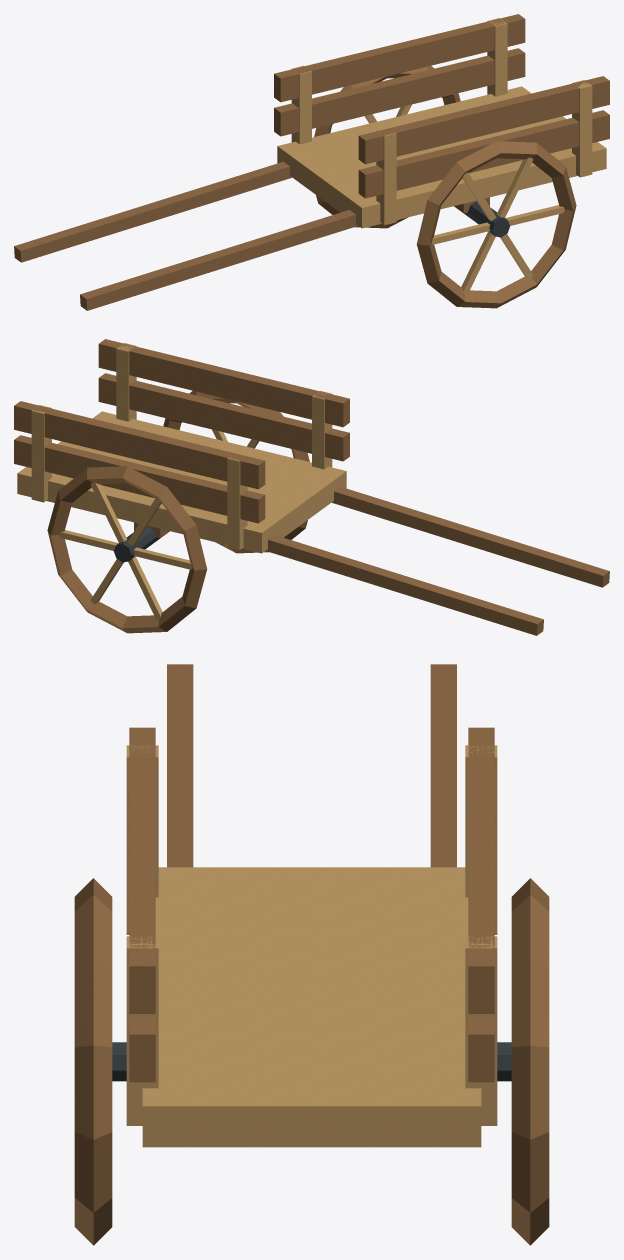
The model's file is cart-1275.glb.
3 views of the same model, one above another, from view 1: azimuth 30°, elevation 25°; view 2: azimuth 150°, elevation 25°; view 3: azimuth 270°, elevation 25° (orthographic). The views are drawn at different scales.
Visible parts, largest first — view 1: Cart bed 001, Cart wheel rim 013, Cart side plank 007, Cart side plank 003, Cart side plank 006, Cart side plank 002, Cart drawbar 027, Cart drawbar 028, Cart side stake 005, Cart side stake 004, Wheel spoke 015, Cart side stake 009 (+6 smaller); view 2: Cart bed 001, Cart wheel rim 020, Cart side plank 007, Cart side plank 003, Cart side plank 002, Cart side plank 006, Cart drawbar 028, Cart drawbar 027, Cart side stake 009, Cart side stake 008, Wheel spoke 022, Cart side stake 005 (+6 smaller); view 3: Cart bed 001, Cart wheel rim 013, Cart wheel rim 020, Cart side plank 007, Cart side plank 003, Cart drawbar 027, Cart drawbar 028, Cart side stake 009, Cart side stake 005, Cart side plank 002, Cart side plank 006, Cart side stake 004 (+2 smaller).
Part boxes in pixels (x1,y1,x2,y2): Cart bed 001: [277, 86, 606, 228]; Cart wheel rim 013: [416, 141, 576, 308]; Cart side plank 007: [274, 14, 525, 102]; Cart side plank 003: [358, 76, 609, 164]; Cart side plank 006: [274, 48, 525, 136]; Cart side plank 002: [358, 110, 609, 198]; Cart drawbar 027: [80, 210, 357, 310]; Cart drawbar 028: [14, 161, 291, 262]; Cart side stake 005: [572, 80, 592, 177]; Cart side stake 004: [376, 128, 396, 225]; Wheel spoke 015: [461, 157, 533, 294]; Cart side stake 009: [487, 18, 507, 96]; Cart bed 001: [17, 411, 346, 553]; Cart wheel rim 020: [47, 466, 207, 633]; Cart side plank 007: [14, 401, 265, 489]; Cart side plank 003: [98, 339, 349, 427]; Cart side plank 002: [98, 373, 349, 461]; Cart side plank 006: [14, 435, 265, 523]; Cart drawbar 028: [266, 535, 543, 635]; Cart drawbar 027: [332, 486, 609, 587]; Cart side stake 009: [31, 405, 51, 502]; Cart side stake 008: [227, 453, 247, 550]; Wheel spoke 022: [90, 482, 162, 619]; Cart side stake 005: [116, 343, 136, 421]; Cart bed 001: [142, 867, 481, 1147]; Cart wheel rim 013: [74, 878, 112, 1245]; Cart wheel rim 020: [511, 878, 549, 1245]; Cart side plank 007: [468, 727, 494, 1013]; Cart side plank 003: [129, 727, 155, 1013]; Cart drawbar 027: [167, 664, 193, 867]; Cart drawbar 028: [430, 664, 456, 867]; Cart side stake 009: [465, 936, 497, 1125]; Cart side stake 005: [126, 936, 158, 1125]; Cart side plank 002: [129, 1016, 155, 1082]; Cart side plank 006: [468, 1016, 494, 1082]; Cart side stake 004: [126, 745, 158, 934].
Size of the model in its own units: 3.15 by 1.12 by 1.26.
Materials: 3 (3 with a texture image).
